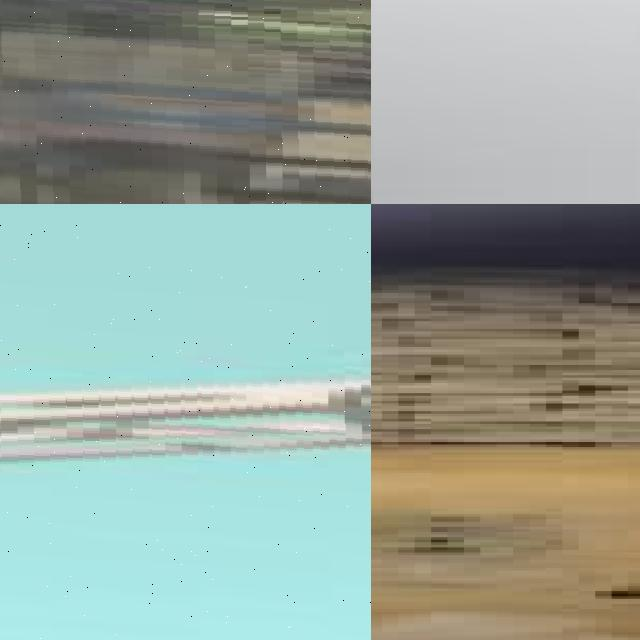street light: (0, 220, 371, 640), (0, 0, 371, 204)
